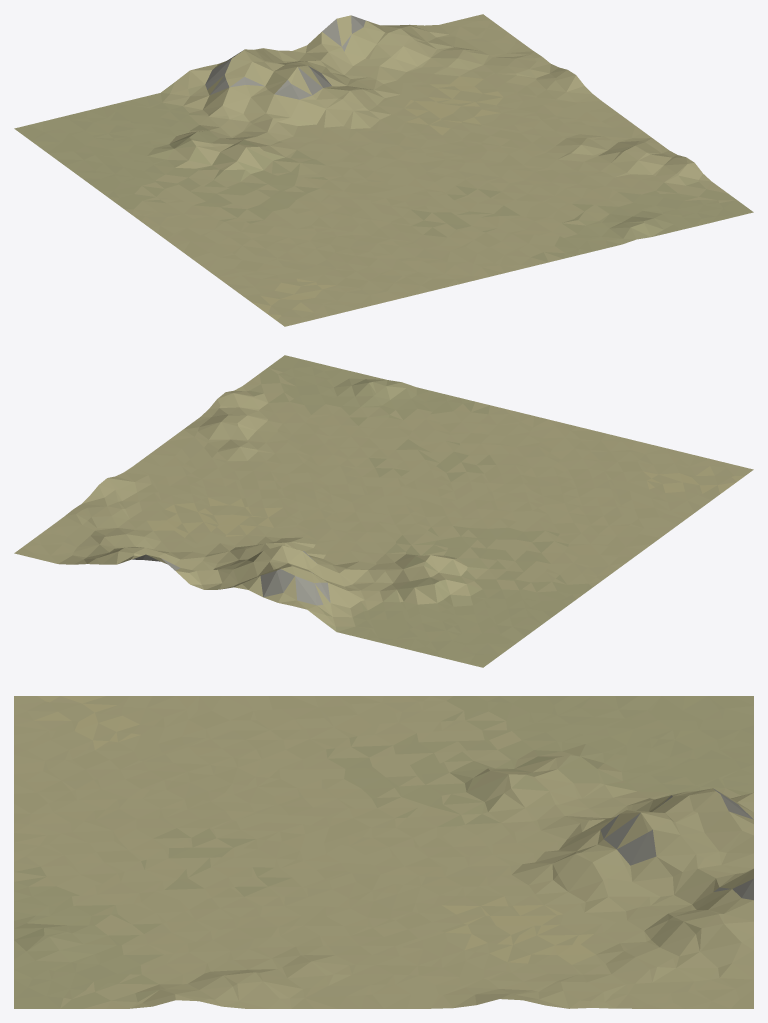
The model's file is Ground_5_-10.glb.
3 views of the same model, one above another, from view 1: azimuth 30°, elevation 25°; view 2: azimuth 150°, elevation 25°; view 3: azimuth 270°, elevation 25° (orthographic). The views are drawn at different scales.
Visible parts, largest first — view 1: Ground_5_-10; view 2: Ground_5_-10; view 3: Ground_5_-10.
Boxes of the visible parts, x1,y1,x2,y2 form: Ground_5_-10: [14, 14, 753, 326]; Ground_5_-10: [14, 355, 753, 667]; Ground_5_-10: [14, 696, 753, 1008].
Bounding box in the file's own units: 768 × 56.3 × 768.
